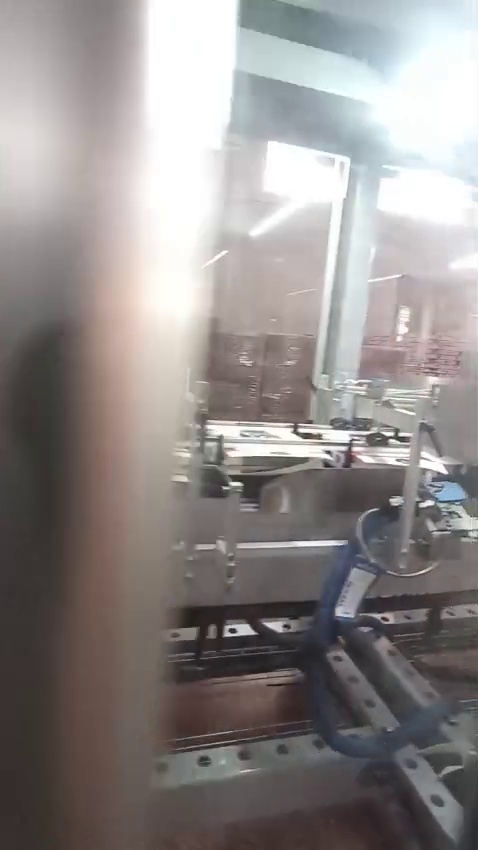savon: (17, 672, 104, 850), (60, 480, 96, 688), (111, 548, 134, 705), (143, 672, 160, 721), (98, 324, 103, 448), (142, 726, 170, 748), (112, 735, 122, 790), (79, 324, 82, 464), (171, 606, 188, 628), (49, 480, 53, 529)
